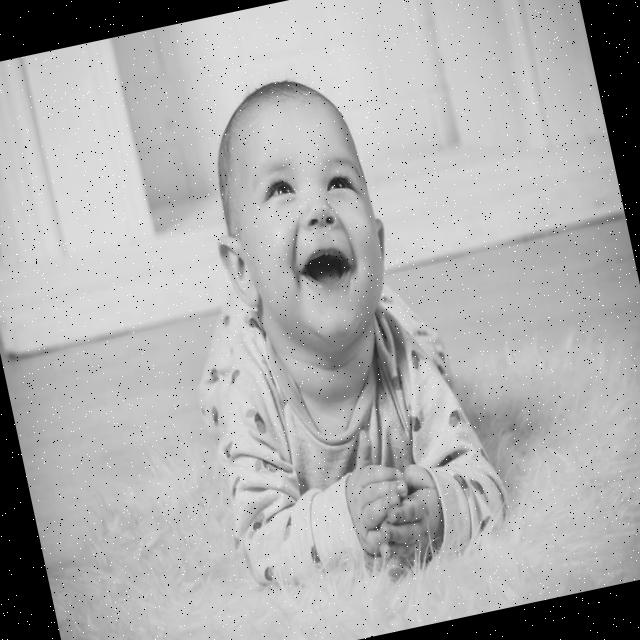Happiness: (204, 88, 406, 372)
